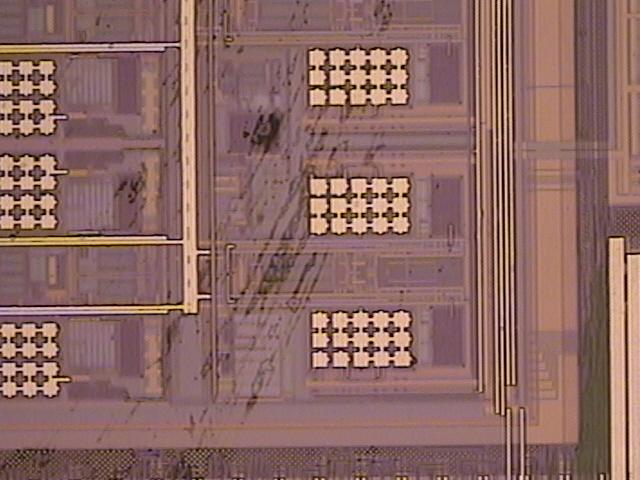PO CONTAMINATION: (38, 1, 404, 480)
